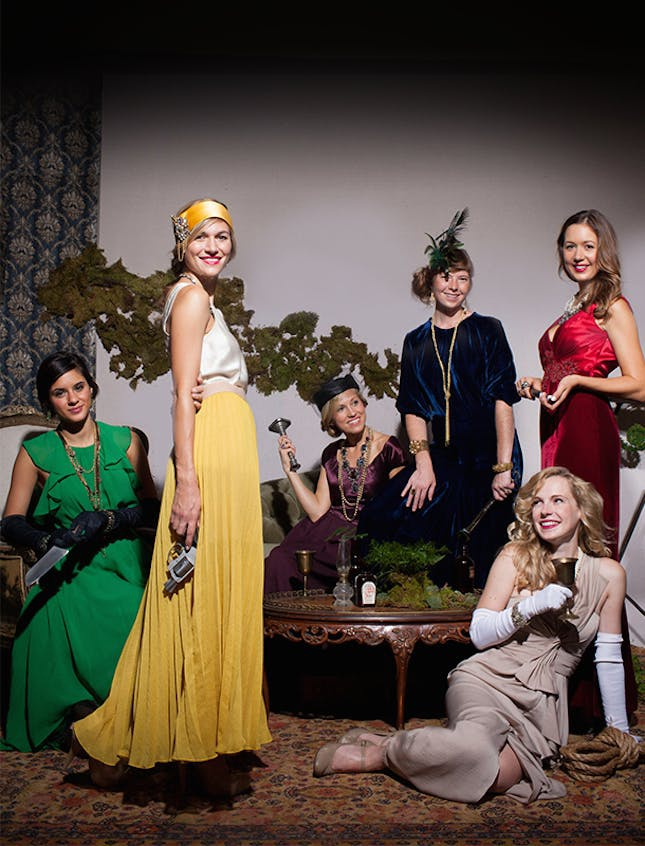bad: (521, 481, 573, 533), (429, 266, 472, 310), (50, 377, 93, 420), (559, 233, 602, 276), (189, 228, 232, 271), (333, 394, 369, 430)
